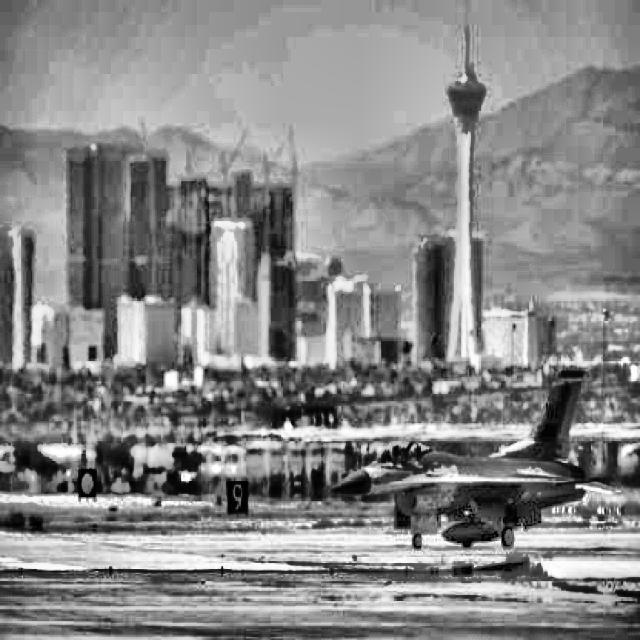F16: (326, 364, 626, 548)
